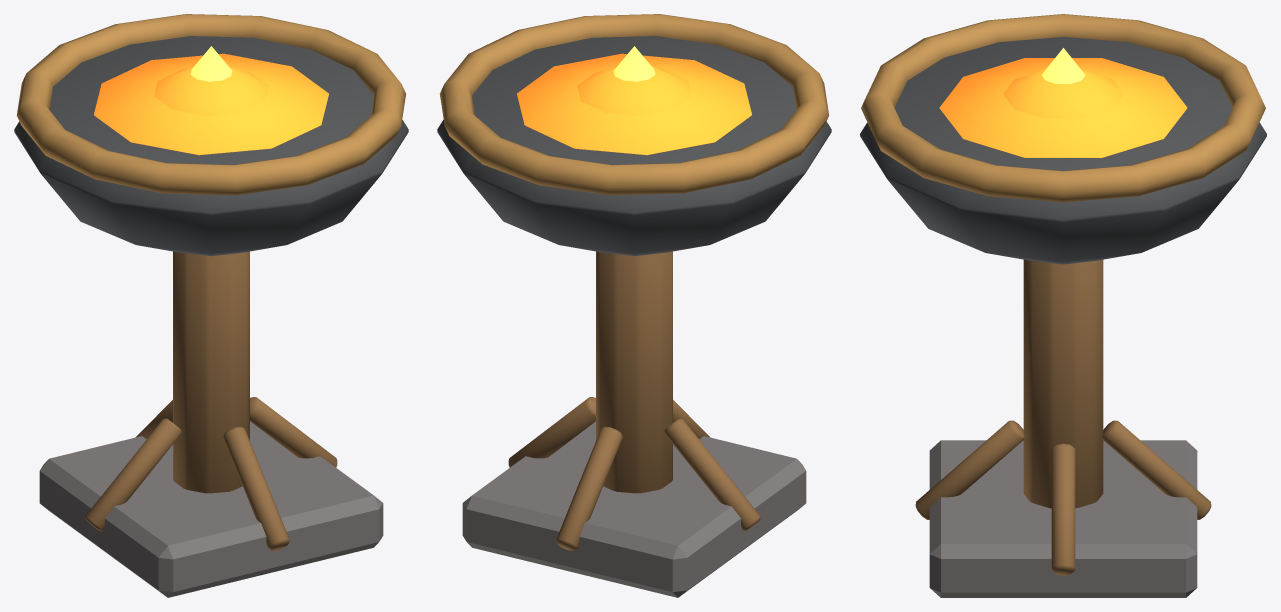
The model's file is brazier.glb.
3 renders of one model, left to right at view 1: azimuth 30°, elevation 25°; view 2: azimuth 150°, elevation 25°; view 3: azimuth 270°, elevation 25°, orthographic. The views are drawn at different scales.
Parts seen in each view (by area): view 1: BRAZIER__bowl, BRAZIER__foot, BRAZIER__rim, BRAZIER__stem, BRAZIER__ember, BRAZIER__flame.001, BRAZIER__brace, BRAZIER__brace.003, BRAZIER__brace.001, BRAZIER__flame; view 2: BRAZIER__bowl, BRAZIER__foot, BRAZIER__rim, BRAZIER__stem, BRAZIER__ember, BRAZIER__flame.001, BRAZIER__brace.002, BRAZIER__brace.003, BRAZIER__brace.001, BRAZIER__flame; view 3: BRAZIER__bowl, BRAZIER__foot, BRAZIER__rim, BRAZIER__stem, BRAZIER__ember, BRAZIER__flame.001, BRAZIER__brace.001, BRAZIER__brace.002, BRAZIER__brace, BRAZIER__flame.
Part boxes in pixels (<box>): BRAZIER__bowl: <box>14,36,408,256</box>; BRAZIER__foot: <box>39,421,383,597</box>; BRAZIER__rim: <box>16,14,405,195</box>; BRAZIER__stem: <box>173,251,249,493</box>; BRAZIER__ember: <box>94,53,328,155</box>; BRAZIER__flame.001: <box>154,66,268,115</box>; BRAZIER__brace: <box>223,426,289,550</box>; BRAZIER__brace.003: <box>85,418,181,531</box>; BRAZIER__brace.001: <box>250,397,337,467</box>; BRAZIER__flame: <box>190,46,232,81</box>; BRAZIER__bowl: <box>437,36,831,256</box>; BRAZIER__foot: <box>462,421,806,597</box>; BRAZIER__rim: <box>440,14,829,195</box>; BRAZIER__stem: <box>596,251,672,493</box>; BRAZIER__ember: <box>517,53,751,155</box>; BRAZIER__flame.001: <box>577,66,691,115</box>; BRAZIER__brace.002: <box>556,426,622,550</box>; BRAZIER__brace.003: <box>664,418,760,531</box>; BRAZIER__brace.001: <box>508,397,595,467</box>; BRAZIER__flame: <box>613,46,655,81</box>; BRAZIER__bowl: <box>860,36,1266,264</box>; BRAZIER__foot: <box>929,440,1197,597</box>; BRAZIER__rim: <box>861,14,1265,202</box>; BRAZIER__stem: <box>1023,259,1103,508</box>; BRAZIER__ember: <box>939,58,1187,157</box>; BRAZIER__flame.001: <box>1003,69,1123,118</box>; BRAZIER__brace.001: <box>1051,443,1075,575</box>; BRAZIER__brace.002: <box>1102,420,1211,519</box>; BRAZIER__brace: <box>915,420,1024,519</box>; BRAZIER__flame: <box>1041,48,1085,83</box>.
Size of the model in its own units: 1.09 by 1.48 by 1.09.
